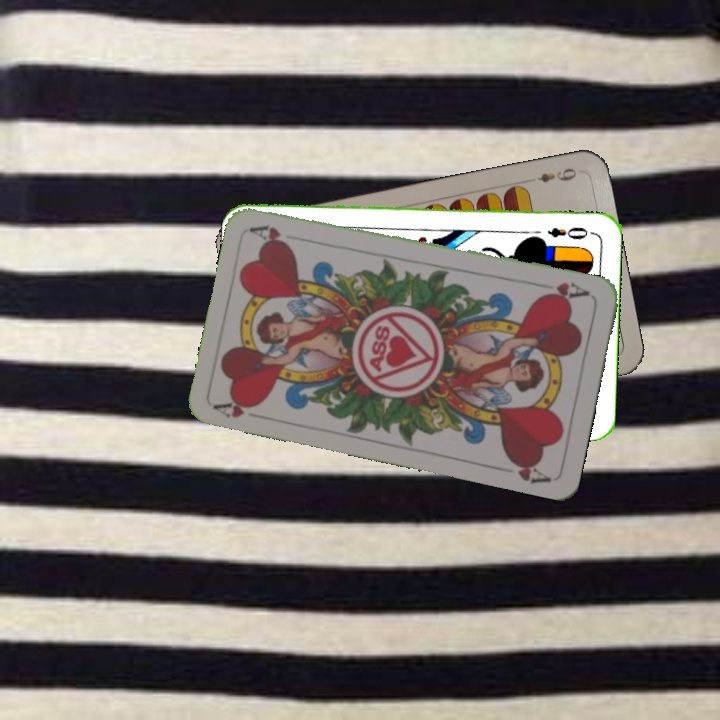E9: (533, 163, 579, 186)
EO: (543, 222, 596, 242)
HA: (534, 278, 592, 304), (211, 393, 262, 421)
